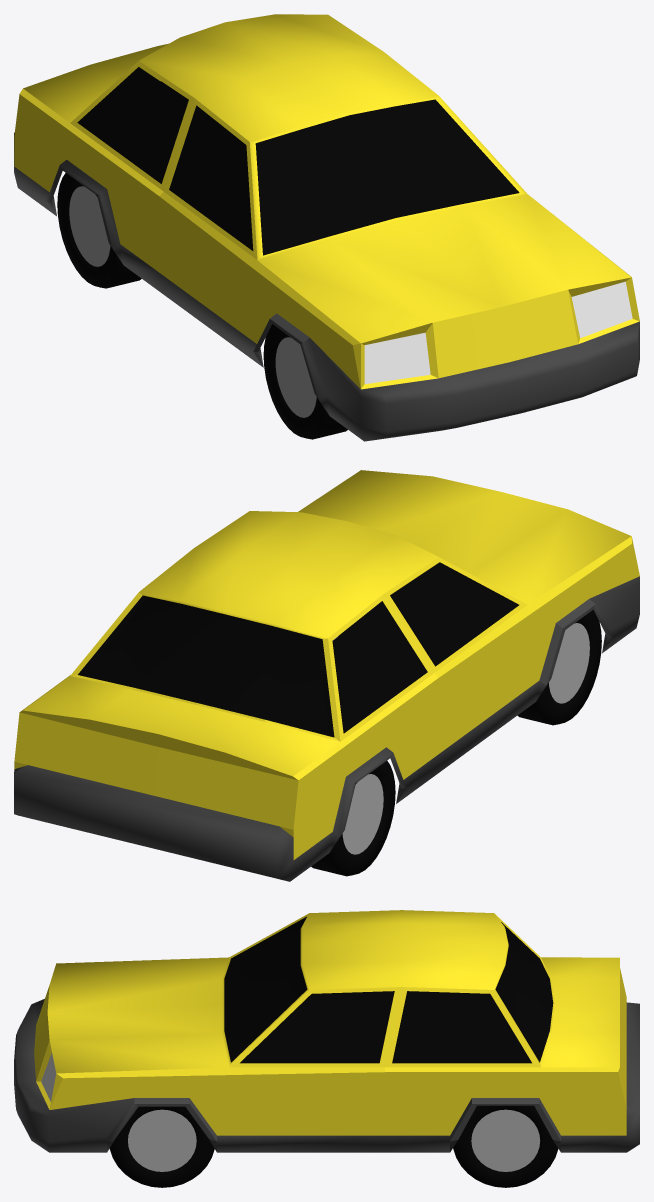
File: yellow_car.glb
3 views of the same model, one above another, from view 1: azimuth 30°, elevation 25°; view 2: azimuth 150°, elevation 25°; view 3: azimuth 270°, elevation 25° (orthographic). The views are drawn at different scales.
Parts seen in each view (by area): view 1: Car_Cube; view 2: Car_Cube; view 3: Car_Cube.
Boxes of the visible parts, x1,y1,x2,y2 form: Car_Cube: (14,14,639,441); Car_Cube: (14,470,639,881); Car_Cube: (14,910,639,1187).
Size of the model in its own units: 2.1 by 1.59 by 4.66.
